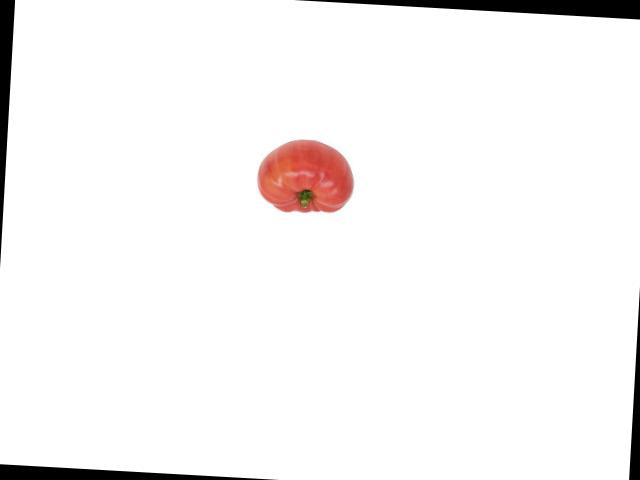tomato: (255, 137, 355, 213)
